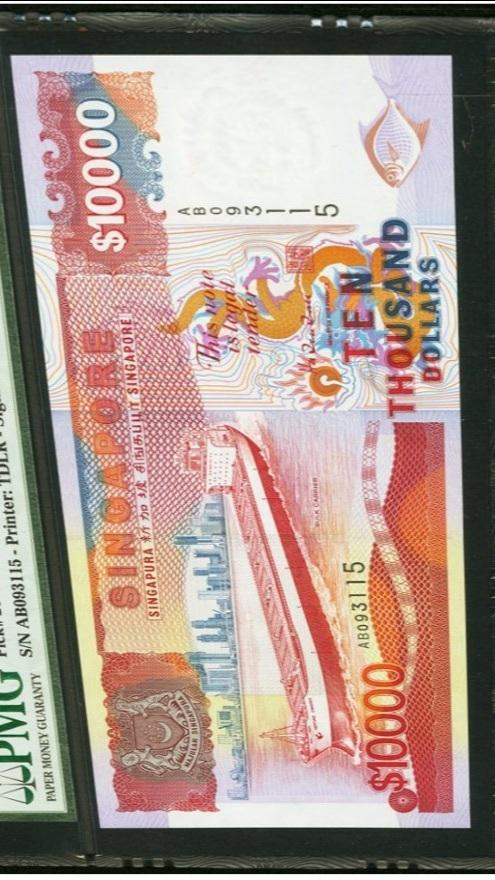10000SingaporeDollar: (51, 58, 456, 818)
